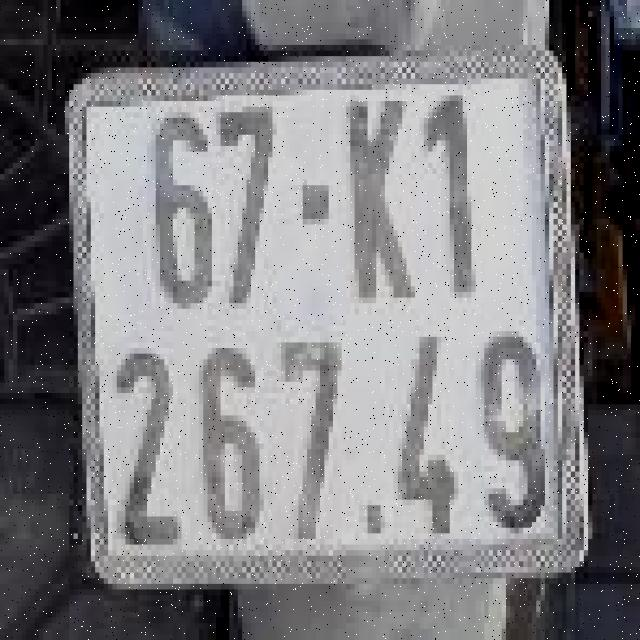1: (424, 76, 488, 312)
2: (110, 334, 184, 553)
4: (385, 329, 467, 536)
6: (188, 337, 270, 544), (142, 95, 220, 309)
7: (272, 323, 342, 553), (214, 98, 283, 312)
9: (474, 314, 560, 556)
K: (333, 81, 415, 306)
